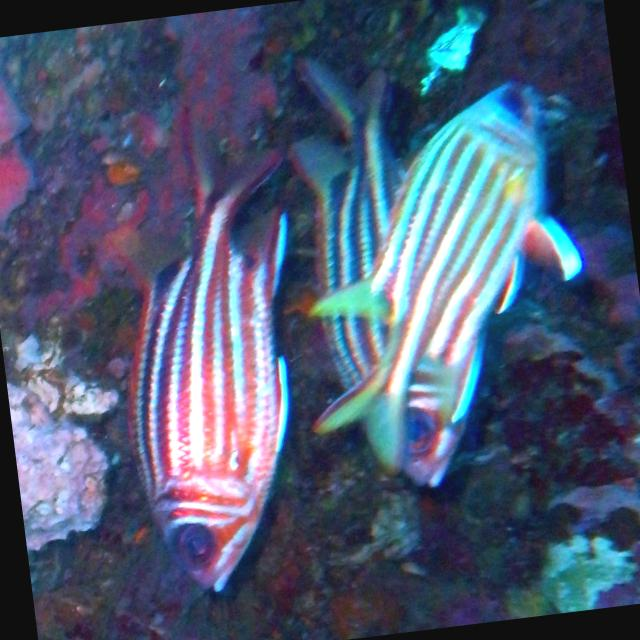Asker Baligi: (268, 60, 612, 503), (87, 95, 335, 603)
